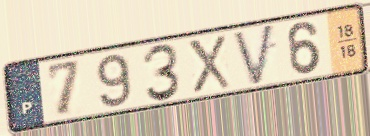3: (140, 42, 182, 104)
6: (285, 20, 323, 77)
7: (46, 57, 83, 119)
9: (92, 51, 135, 109)
V: (230, 21, 278, 89)
X: (184, 33, 234, 96)
